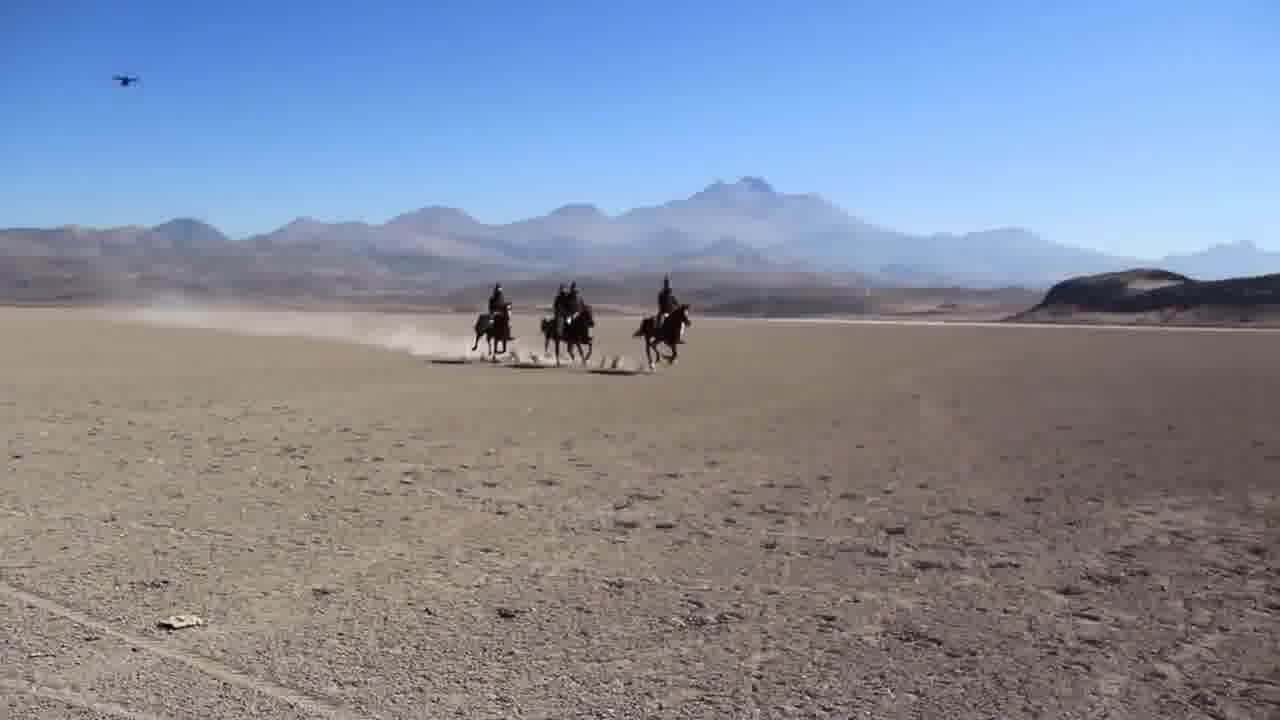drone: (103, 63, 157, 98)
